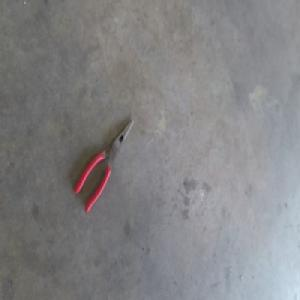Pliers: (76, 118, 135, 213)
